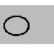no answer: (2, 12, 32, 39)
